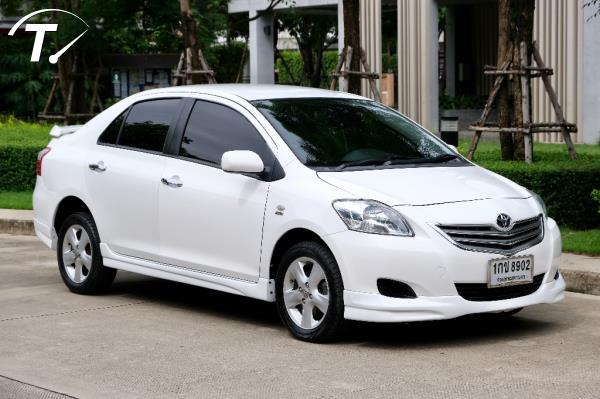sedan: (31, 80, 568, 342)
